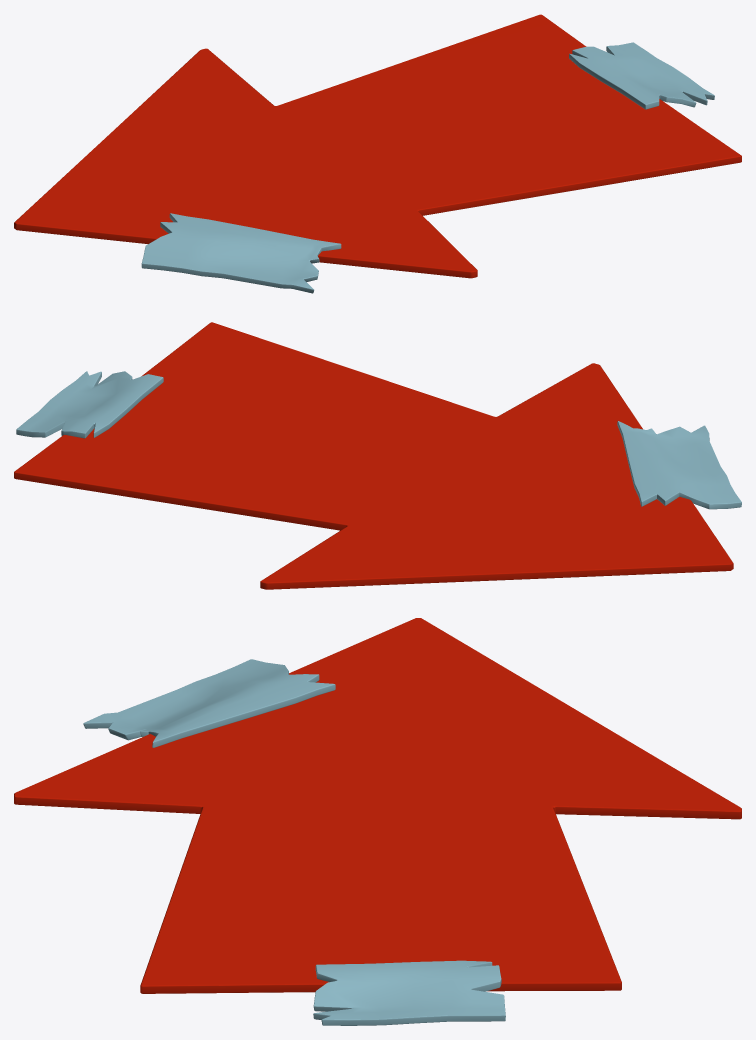
The model's file is arrow.fbx.
3 views of the same model, one above another, from view 1: azimuth 30°, elevation 25°; view 2: azimuth 150°, elevation 25°; view 3: azimuth 270°, elevation 25° (orthographic). The views are drawn at different scales.
Parts seen in each view (by area): view 1: pCube1, polySurface1; view 2: pCube1, polySurface1; view 3: pCube1, polySurface1.
Part boxes in pixels (left/top/right/bottom): pCube1: left=14, top=14, right=741, bottom=278; polySurface1: left=141, top=42, right=714, bottom=293; pCube1: left=14, top=322, right=733, bottom=589; polySurface1: left=16, top=371, right=741, bottom=509; pCube1: left=14, top=618, right=741, bottom=993; polySurface1: left=83, top=659, right=505, bottom=1025.
Size of the model in its own units: 6.3 by 0.1585 by 4.89.
